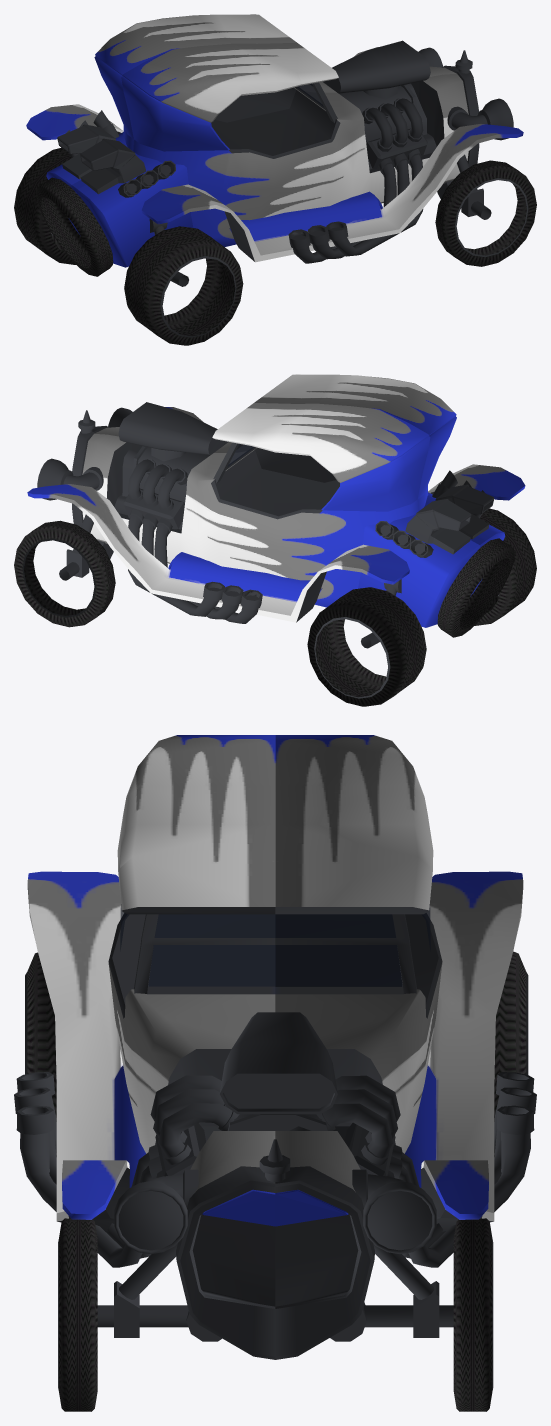
Rendered from backfire.obj.
3 renders of one model, top to bottom at view 1: azimuth 30°, elevation 25°; view 2: azimuth 150°, elevation 25°; view 3: azimuth 270°, elevation 25°, orthographic. The views are drawn at different scales.
Bounding box in the file's own units: 2.03 × 1.07 × 1.2.
3 materials, 2 textured.
